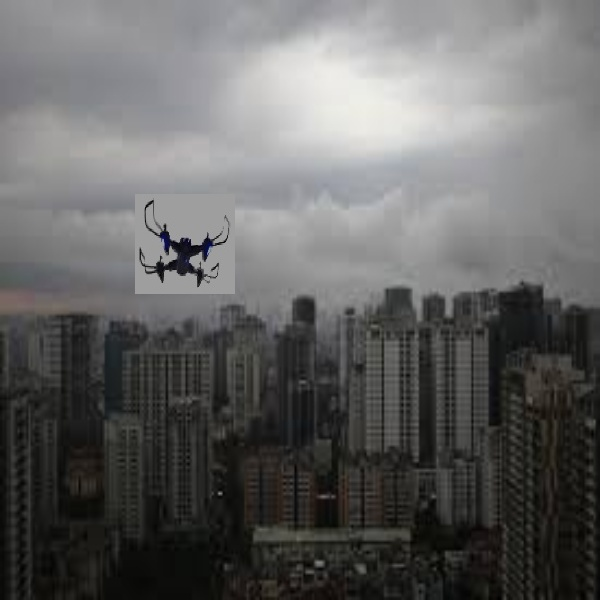drone: (134, 195, 233, 288)
